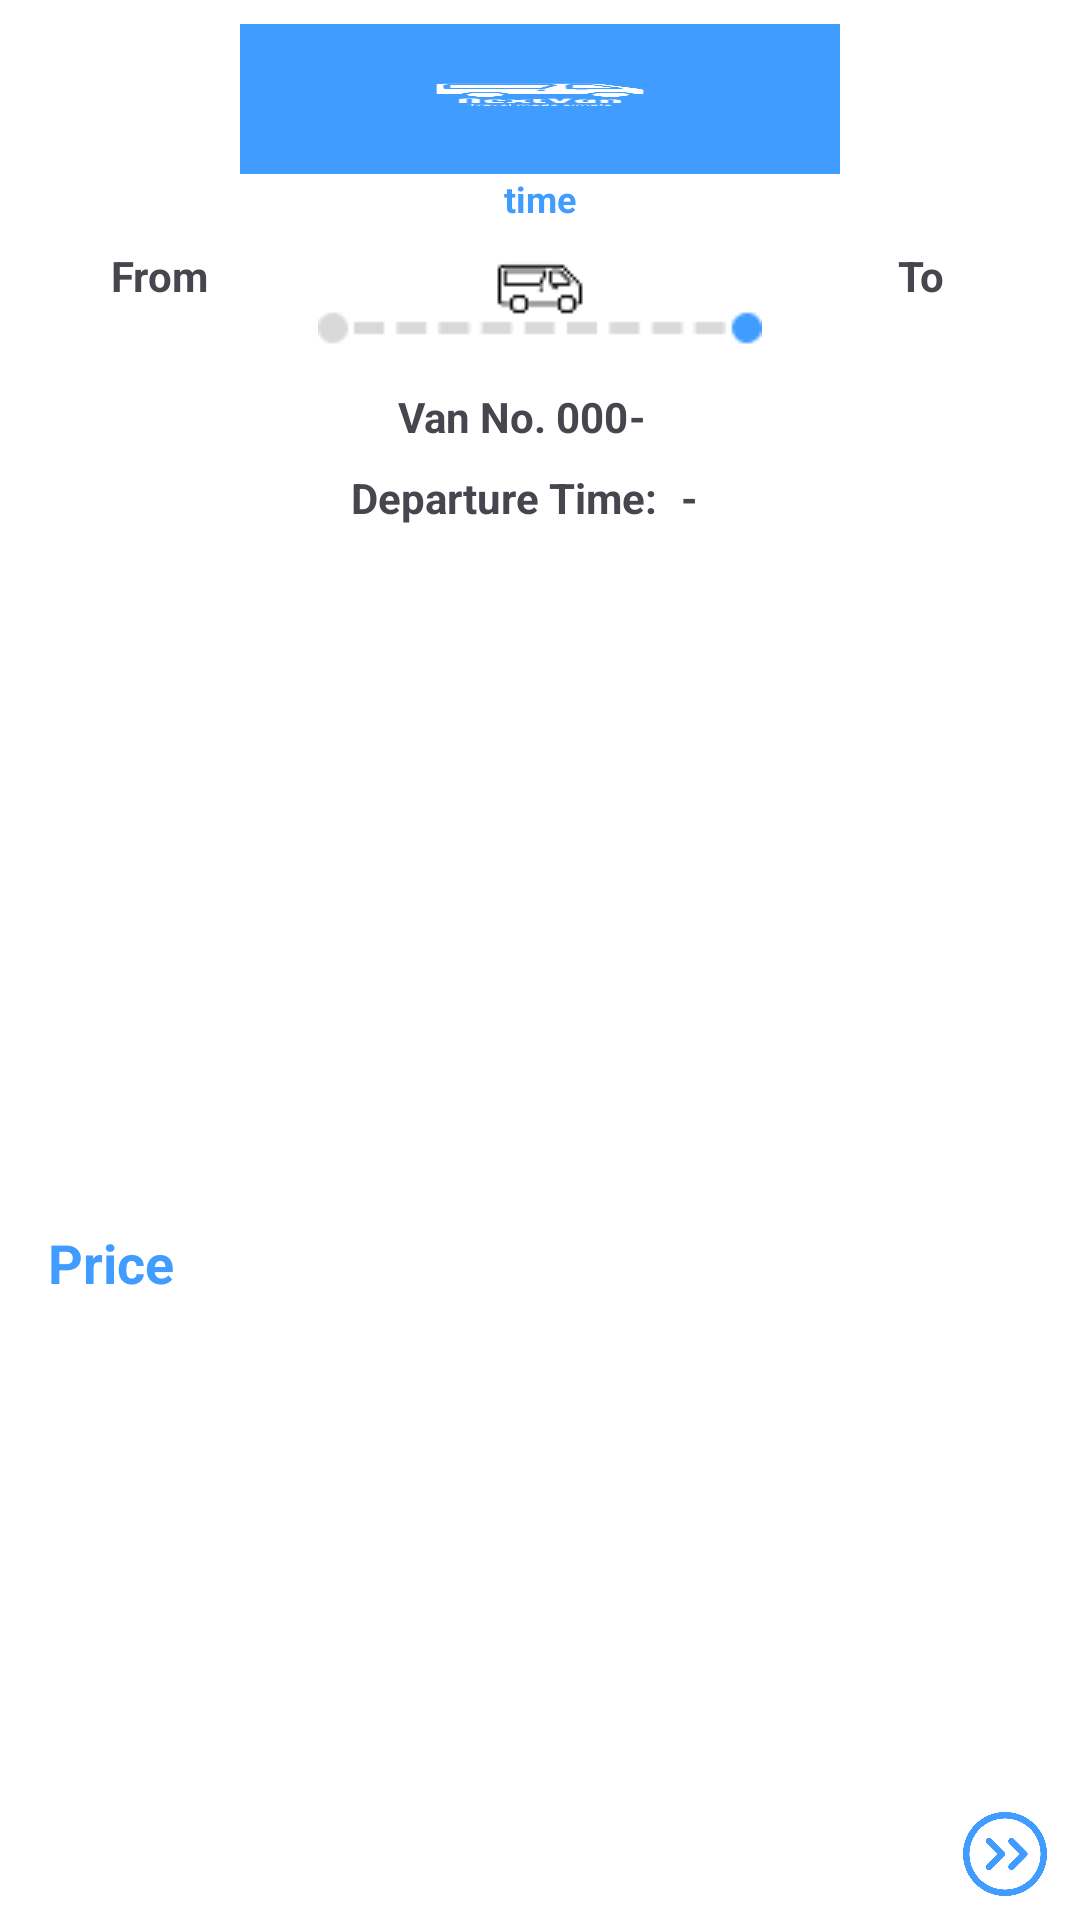

Icons on this 1080 × 1920 Android screen, each with its box as box=[x1, y1, x2, y2]:
arrow: box=[963, 1812, 1047, 1896]
